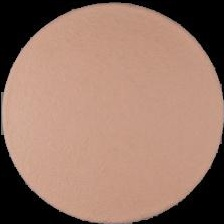21695-109: (0, 0, 224, 224)
